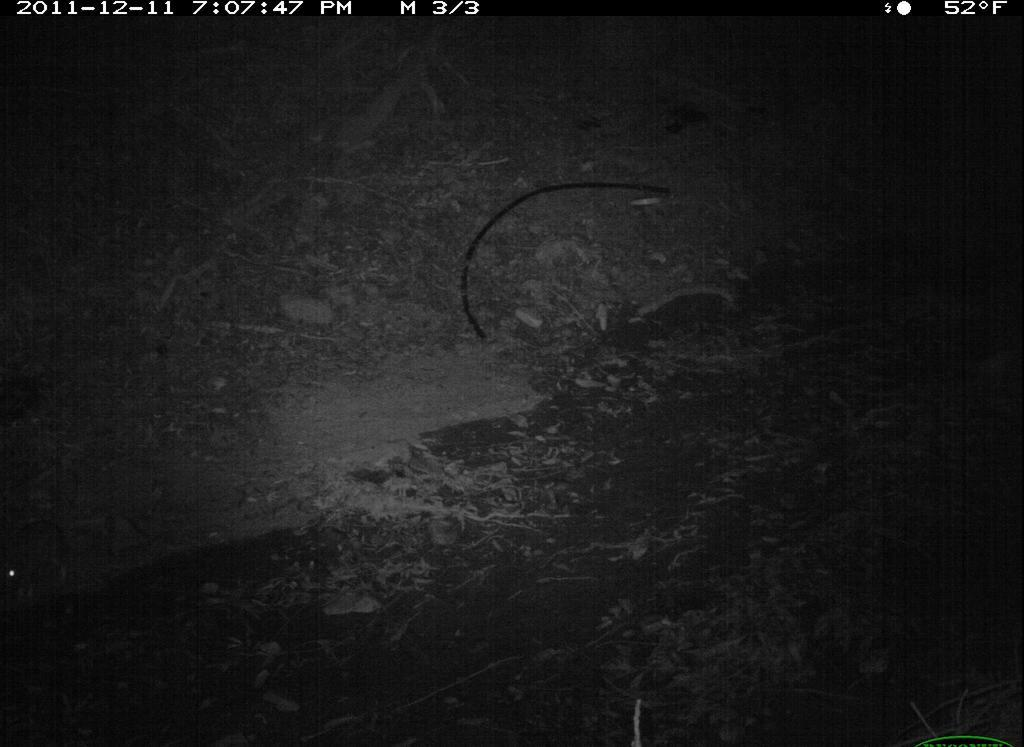rabbit: (2, 514, 82, 604)
